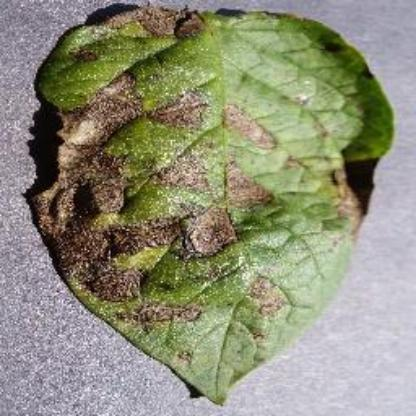Early-Blight: (24, 0, 415, 408)
